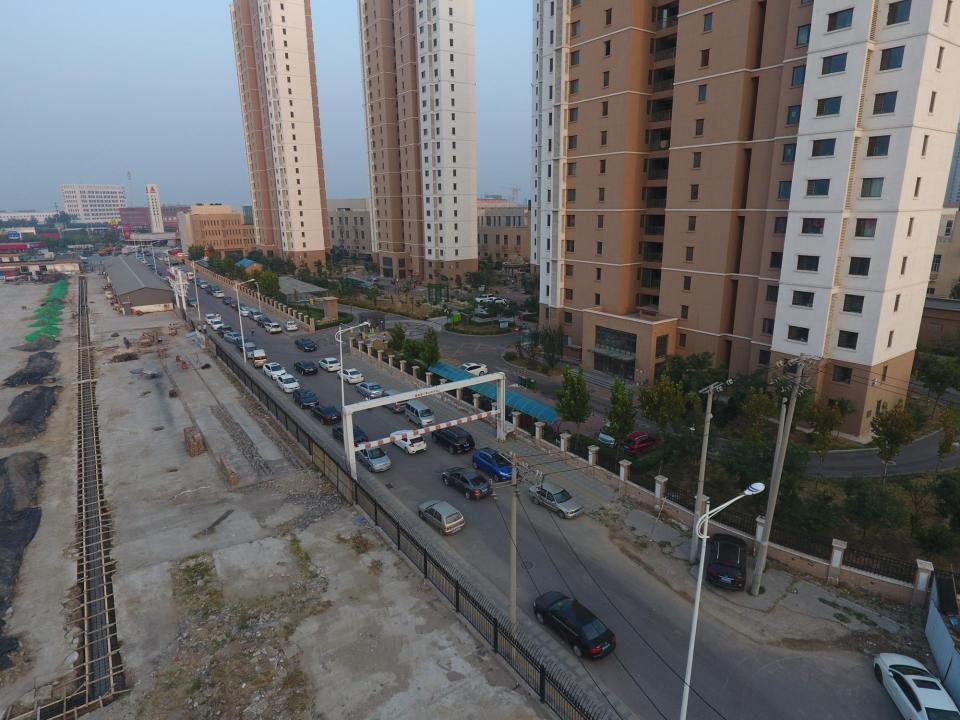car: (874, 652, 960, 720), (534, 591, 616, 660), (528, 482, 582, 519), (443, 466, 492, 500), (356, 441, 391, 472), (332, 424, 368, 447), (448, 362, 488, 379), (311, 404, 341, 425), (293, 388, 319, 409), (356, 381, 384, 399), (276, 374, 300, 393), (262, 362, 287, 380), (337, 368, 363, 384), (294, 360, 318, 375), (319, 357, 341, 372), (295, 338, 317, 352), (223, 332, 245, 344), (210, 319, 225, 331), (485, 297, 507, 305), (204, 314, 221, 324), (256, 318, 272, 328), (239, 307, 252, 316), (186, 298, 198, 307), (222, 296, 234, 305), (234, 304, 247, 312), (229, 299, 239, 308), (367, 275, 378, 282), (212, 291, 224, 297), (168, 261, 182, 266), (191, 278, 200, 284), (159, 276, 168, 282), (76, 256, 87, 260), (195, 280, 202, 286), (139, 250, 149, 254), (112, 245, 121, 249), (110, 244, 119, 248), (114, 251, 122, 255), (165, 260, 171, 265), (158, 256, 164, 261), (156, 256, 162, 260), (145, 252, 151, 256), (115, 247, 122, 250), (121, 244, 128, 247), (153, 253, 158, 257), (155, 255, 160, 258), (172, 245, 177, 248), (66, 250, 70, 253)
truck: (204, 285, 221, 295), (77, 250, 93, 257), (122, 247, 132, 255), (37, 249, 48, 255), (146, 264, 154, 272)
van: (706, 534, 749, 590), (419, 500, 465, 536), (472, 447, 519, 482), (431, 426, 475, 454), (620, 431, 662, 458), (598, 417, 633, 448), (405, 399, 435, 428), (390, 430, 426, 454), (380, 389, 410, 413), (251, 350, 268, 368), (235, 336, 252, 352), (244, 342, 258, 359), (218, 324, 234, 338), (264, 323, 282, 334), (474, 294, 493, 304), (249, 308, 262, 322), (284, 321, 298, 331), (175, 287, 185, 297), (199, 280, 208, 288), (186, 272, 194, 280), (177, 253, 189, 258), (199, 256, 209, 262), (364, 256, 374, 262), (152, 267, 160, 273), (125, 244, 134, 249), (166, 243, 176, 247), (173, 248, 181, 253), (82, 258, 88, 264), (132, 245, 139, 248), (131, 249, 138, 252)
